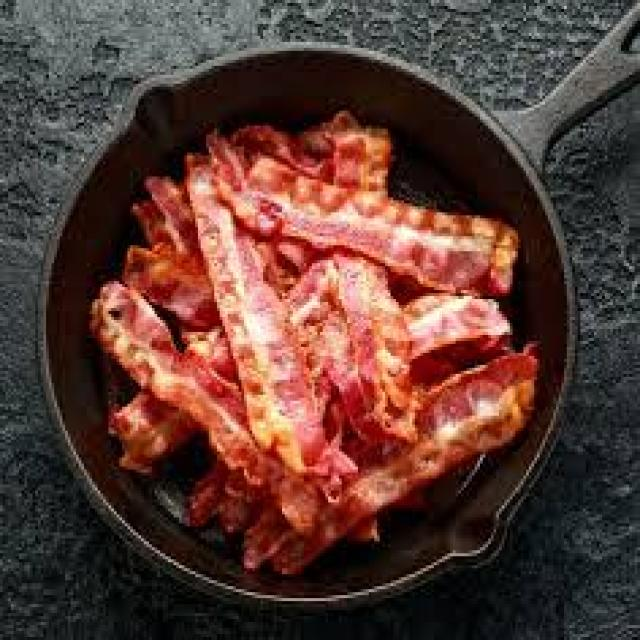Bacon: (244, 353, 538, 574), (211, 139, 519, 296), (189, 167, 325, 474), (91, 284, 269, 485), (338, 256, 411, 439), (126, 241, 220, 330)
